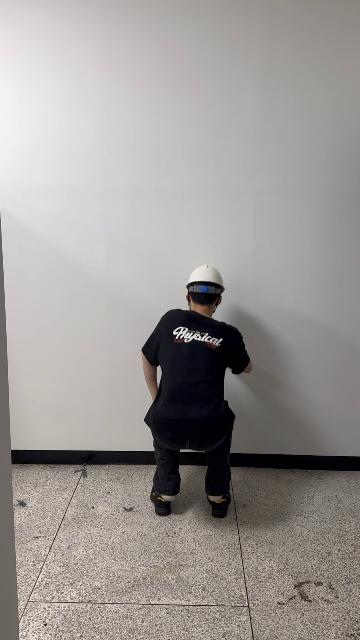helmet_worn: (186, 263, 225, 293)
shoe_worn: (207, 490, 231, 517), (150, 488, 172, 517)
vest_not_worn: (152, 312, 234, 455)
